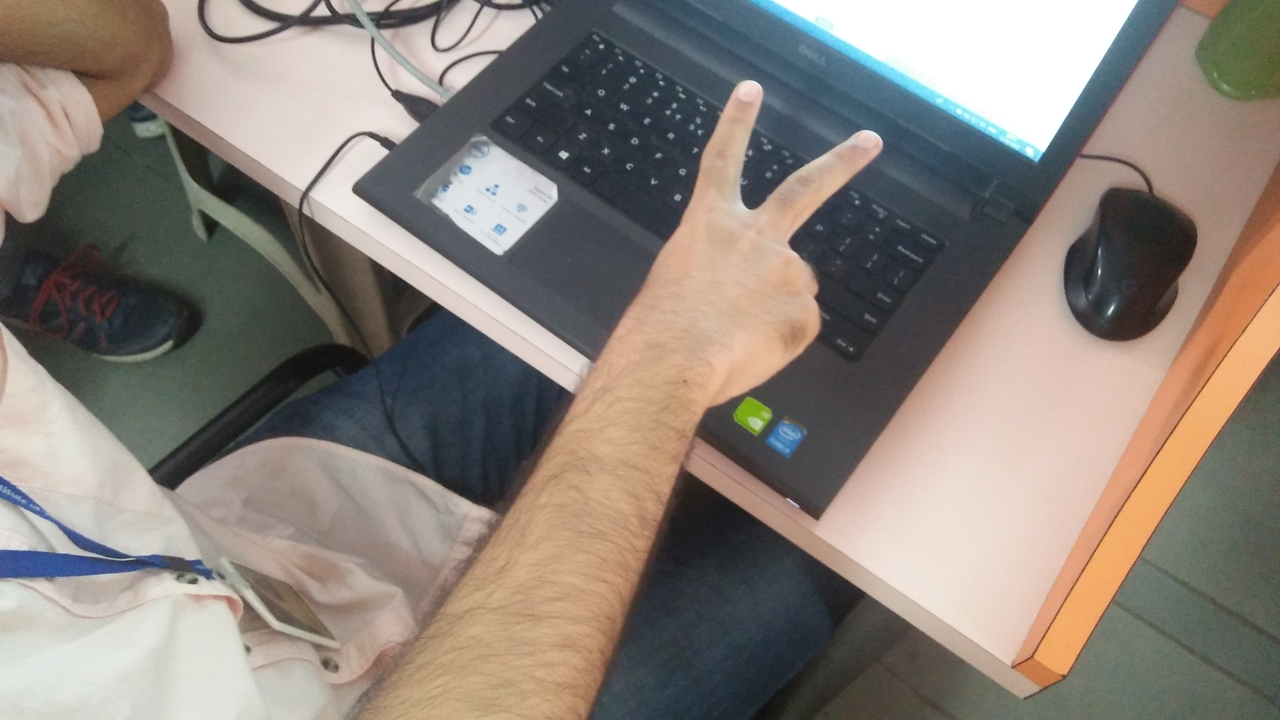fingertip: (818, 116, 896, 170), (714, 68, 772, 114)
